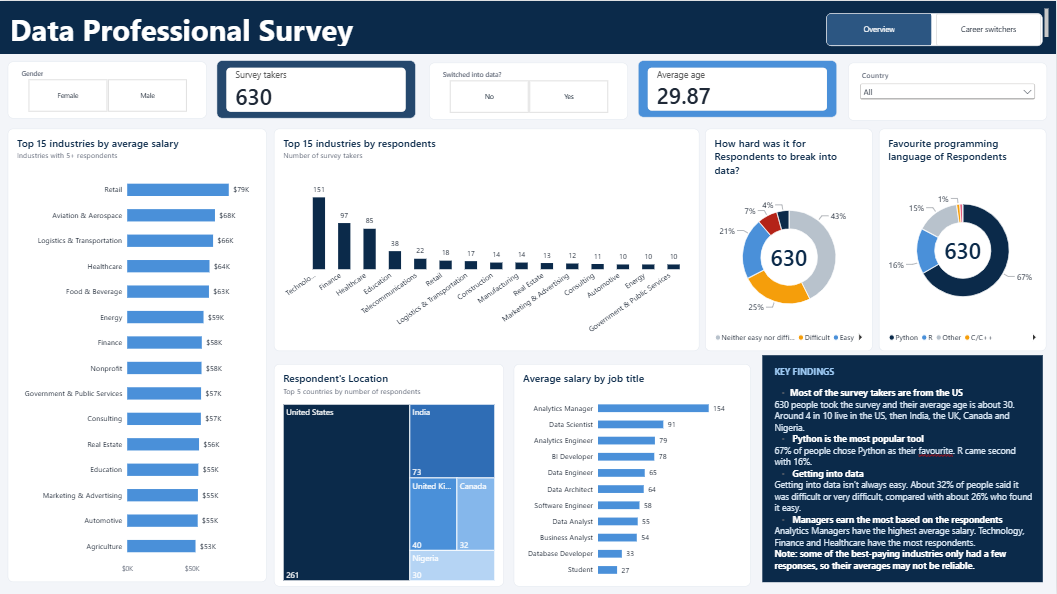

The dashboard page shown, as its layout file describes it:
{"tool":"powerbi","page":{"name":"Overview","canvas":[1920,1080],"ordinal":0},"visuals":[{"type":"textbox","box":[0,0,1920,96],"z":0},{"type":"cardVisual","fields":{"Data":["Count(Data Professional Survey.Unique ID)"]},"box":[393.5,107.3,361.5,105.4],"z":1000},{"type":"cardVisual","fields":{"Data":["Avg(Data Professional Survey.Q10 - Current Age)"]},"box":[1159.7,107.3,361.5,103.5],"z":2000},{"type":"slicer","fields":{"Values":["Data Professional Survey.Q9 - Male/Female?"]},"box":[13.2,109.2,361.6,104],"z":3000},{"type":"slicer","fields":{"Values":["Data Professional Survey.Q2 - Did you switch careers into Data?"]},"box":[779.4,113,361.6,104],"z":4000},{"type":"slicer","fields":{"Values":["Data Professional Survey.Country of Resident"]},"box":[1541.9,111.1,361.5,105.4],"z":5000},{"type":"treemap","title":"Respondent''s Location","fields":{"Group":["Data Professional Survey.Country of Resident"],"Values":["CountNonNull(Data Professional Survey.Country of Resident)"]},"box":[497,660.8,418,404.8],"z":6000},{"type":"barChart","title":"Average salary by job title","fields":{"Category":["Data Professional Survey.Role Title"],"Y":["Avg(Data Professional Survey.Average Salary)"]},"box":[933.8,660.8,431.1,404.8],"z":7000},{"type":"donutChart","title":"How hard was it for Respondents to break into data?","fields":{"Category":["Data Professional Survey.Q7 - How difficult was it for you to break into Data?"],"Y":["CountNonNull(Data Professional Survey.Q7 - How difficult was it for you to break into Data?)"]},"box":[1282.1,231.6,305,404.8],"z":8000},{"type":"donutChart","title":"Favourite programming language of Respondents","fields":{"Category":["Data Professional Survey.Q5 - Favorite Programming Language.1"],"Y":["CountNonNull(Data Professional Survey.Unique ID)"]},"box":[1598.4,231.6,305,404.8],"z":9000},{"type":"clusteredBarChart","title":"Top 15 industries by average salary","fields":{"Category":["Data Professional Survey.Cleaned Industry"],"Y":["Data Professional Survey.Average Salary by Industry"]},"box":[13.2,231.6,470.7,824.6],"z":10000},{"type":"columnChart","title":"Top 15 industries by respondents","fields":{"Category":["Data Professional Survey.Cleaned Industry"],"Y":["Data Professional Survey.Respondent Count"]},"box":[497,231.6,773.8,404.8],"z":11000},{"type":"textbox","box":[1385.6,643.9,510.2,412.3],"z":12000},{"type":"pageNavigator","box":[1502.4,22.6,393.5,60.2],"z":13000}]}

Visuals, with their boxes in screenshot pixels (x1, y1, x2, y2), scaled from the page's 1920x1080 canvas onto the 1057x594 screenshot:
textbox: pyautogui.locateOnScreen(0, 0, 1056, 53)
cardVisual - Count(Data Professional Survey.Unique ID): pyautogui.locateOnScreen(217, 59, 416, 117)
cardVisual - Avg(Data Professional Survey.Q10 - Current Age): pyautogui.locateOnScreen(638, 59, 837, 116)
slicer - Data Professional Survey.Q9 - Male/Female?: pyautogui.locateOnScreen(7, 60, 206, 117)
slicer - Data Professional Survey.Q2 - Did you switch careers into Data?: pyautogui.locateOnScreen(429, 62, 628, 119)
slicer - Data Professional Survey.Country of Resident: pyautogui.locateOnScreen(849, 61, 1048, 119)
"Respondent''s Location" treemap: pyautogui.locateOnScreen(274, 363, 504, 586)
"Average salary by job title" barChart: pyautogui.locateOnScreen(514, 363, 751, 586)
"How hard was it for Respondents to break into data?" donutChart: pyautogui.locateOnScreen(706, 127, 874, 350)
"Favourite programming language of Respondents" donutChart: pyautogui.locateOnScreen(880, 127, 1048, 350)
"Top 15 industries by average salary" clusteredBarChart: pyautogui.locateOnScreen(7, 127, 266, 581)
"Top 15 industries by respondents" columnChart: pyautogui.locateOnScreen(274, 127, 700, 350)
textbox: pyautogui.locateOnScreen(763, 354, 1044, 581)
pageNavigator: pyautogui.locateOnScreen(827, 12, 1044, 46)
